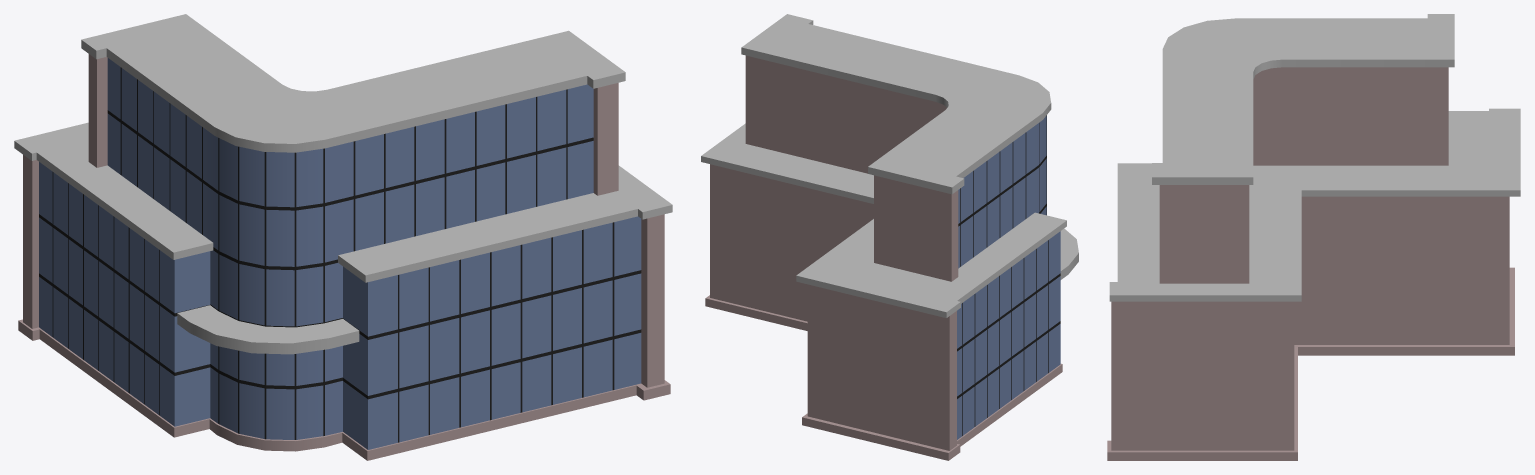
The model's file is Supermarket_05.fbx.
The picture shows the model from 3 angles, left to right: view 1: azimuth 30°, elevation 25°; view 2: azimuth 150°, elevation 25°; view 3: azimuth 270°, elevation 25°; orthographic projection. The views are drawn at different scales.
Visible parts, largest first — view 1: Supermarket_05; view 2: Supermarket_05; view 3: Supermarket_05.
Part boxes in pixels (bbox=[...]): Supermarket_05: bbox=[14, 14, 672, 460]; Supermarket_05: bbox=[701, 14, 1078, 460]; Supermarket_05: bbox=[1107, 14, 1520, 460].
Bounding box in the file's own units: 28.77 × 19.82 × 26.96.
